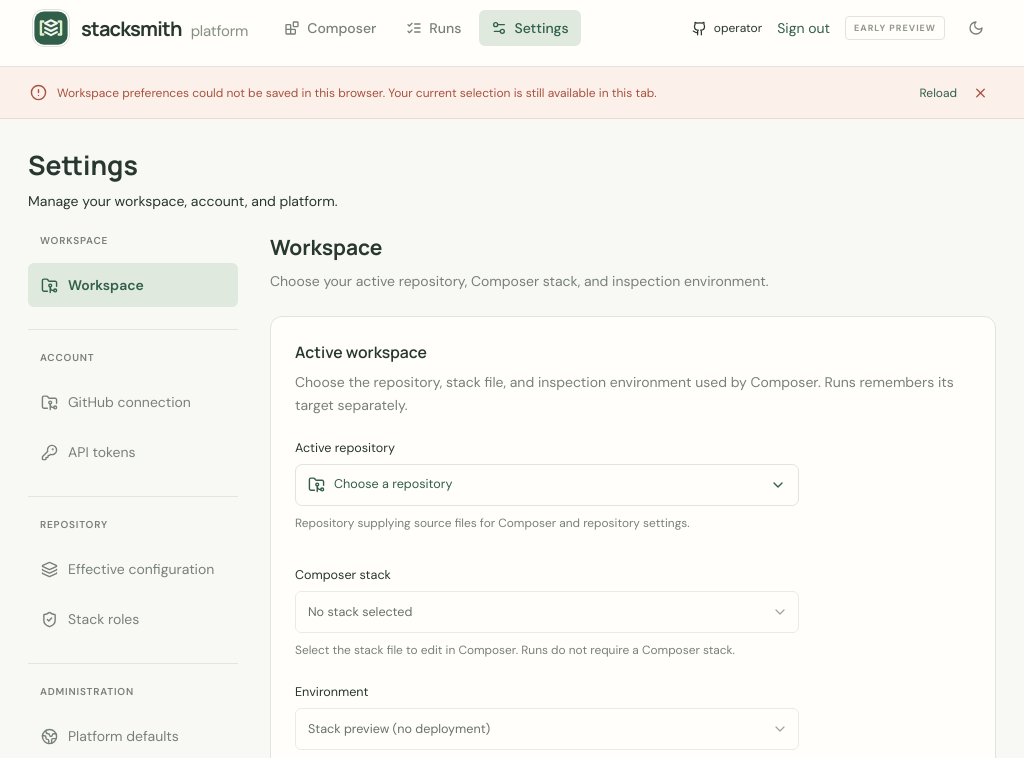
keeps workspace selection usable when browser storage is blocked
Step 1. Click the button with class "repository-selector-trigger" → (393, 484), box [295,464,799,506]
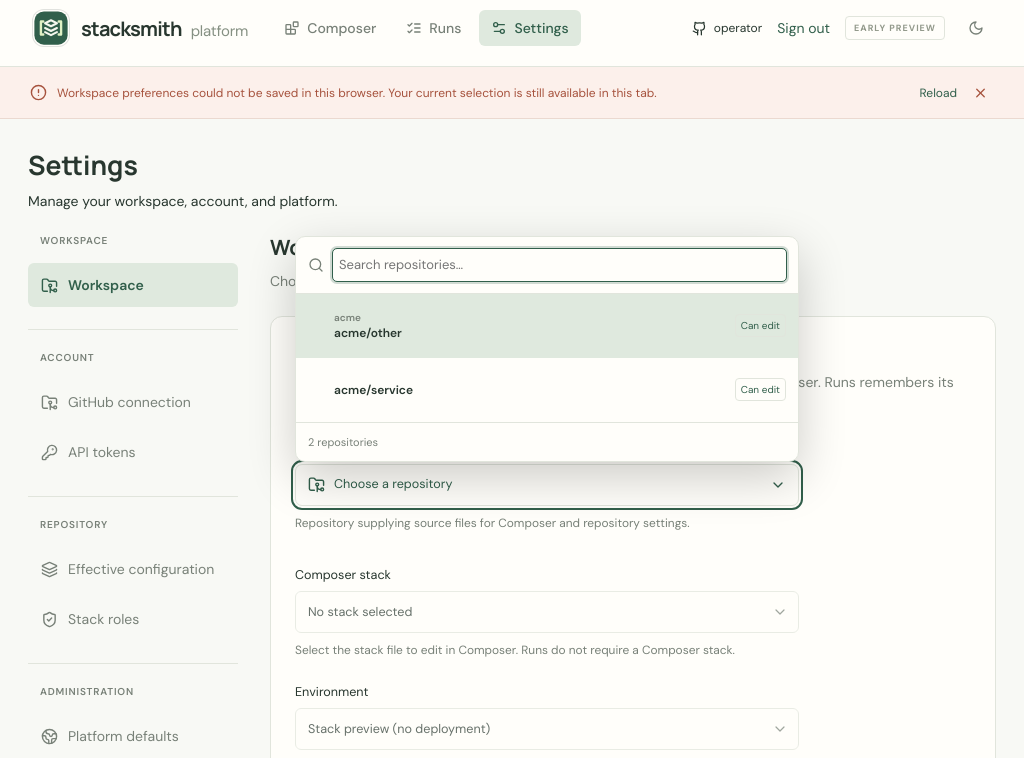
expect the option "acme/service Can edit" is shown: met
Step 2. Click the option "acme/service Can edit" → (374, 390), box [334,378,786,402]
(page scrolled)
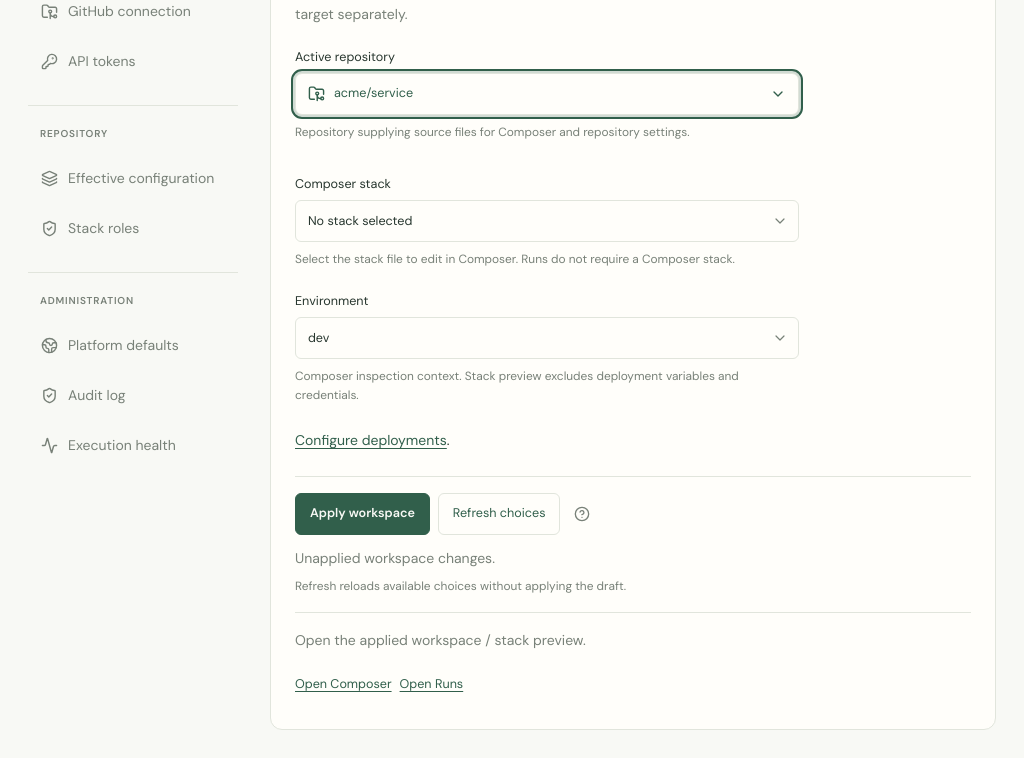
Step 3. Click the button "Apply workspace" → (362, 514), box [295,492,430,534]
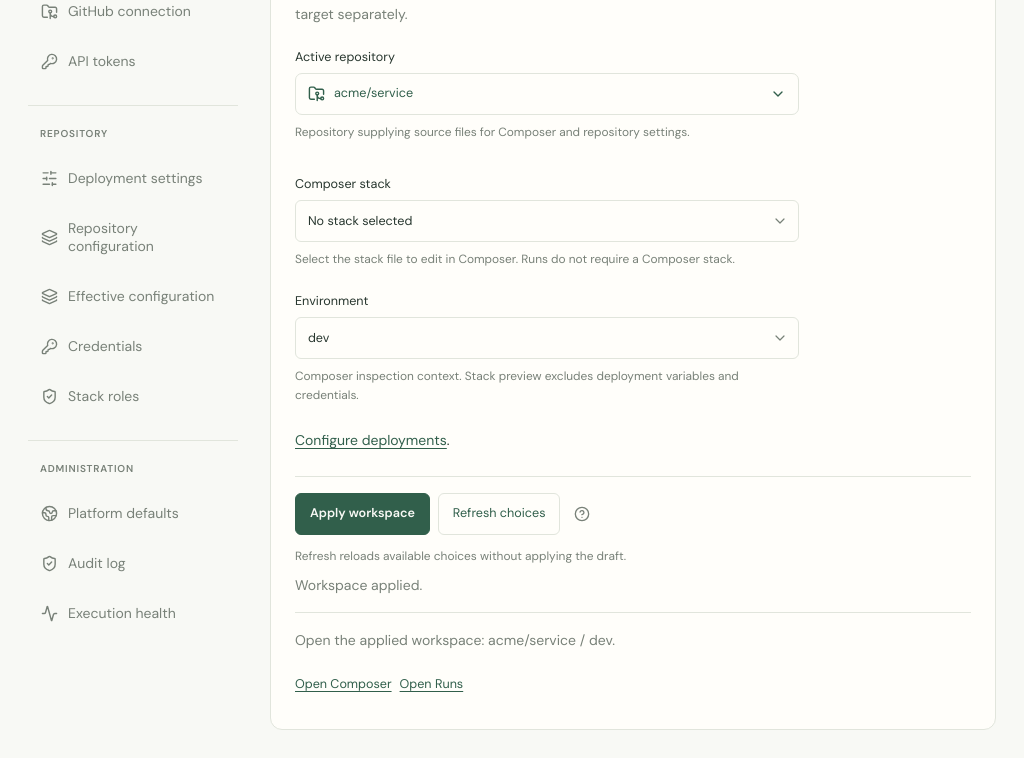
expect the button "acme/service" is shown: met, box [295,73,799,115]
expect the text "Workspace applied." is shown: met, box [295,576,422,594]
